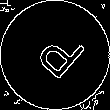P_SW: (24, 24, 86, 86)
